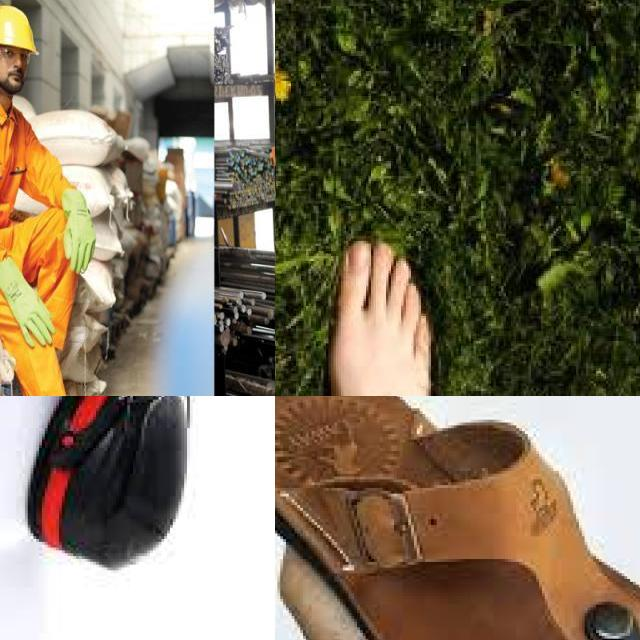Barefoots: (315, 233, 460, 396)
Ear-protection: (0, 396, 216, 546)
Sandals: (275, 396, 640, 640)
face_nomask: (1, 70, 26, 96)
glasses: (0, 48, 30, 63)
hand_glove: (0, 258, 56, 347), (62, 189, 96, 273)
head_helmet: (0, 6, 36, 54)
